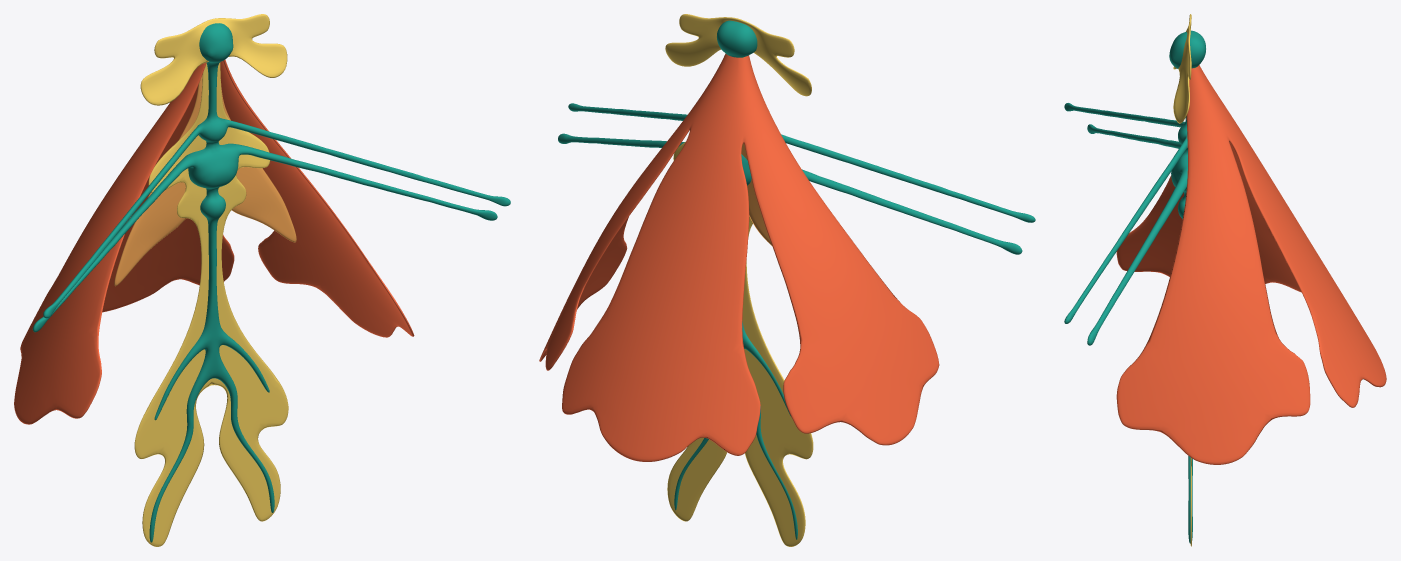
Rendered from CreatureV6Static.fbx.
The picture shows the model from 3 angles, left to right: view 1: azimuth 30°, elevation 25°; view 2: azimuth 150°, elevation 25°; view 3: azimuth 270°, elevation 25°; orthographic projection. The views are drawn at different scales.
Parts seen in each view (by area): view 1: cape, membrane_corps, low_poly_corps, membrane_triangle; view 2: cape, membrane_corps, low_poly_corps, membrane_triangle; view 3: cape, low_poly_corps, membrane_corps.
Boxes of the visible parts, x1,y1,x2,y2 form: cape: (14,59,414,424); membrane_corps: (134,14,288,546); low_poly_corps: (32,23,510,542); membrane_triangle: (114,75,296,286); cape: (539,54,939,461); membrane_corps: (665,14,813,546); low_poly_corps: (558,20,1035,539); membrane_triangle: (725,54,772,246); cape: (1116,65,1386,464); low_poly_corps: (1064,30,1205,543); membrane_corps: (1173,14,1191,546).
Size of the model in its own units: 700 by 739 by 439.
